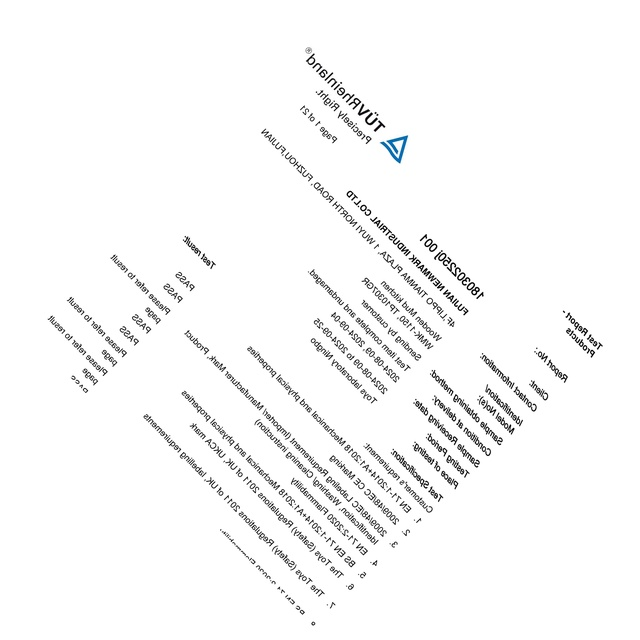tuv_rheinland: (298, 43, 410, 166)
